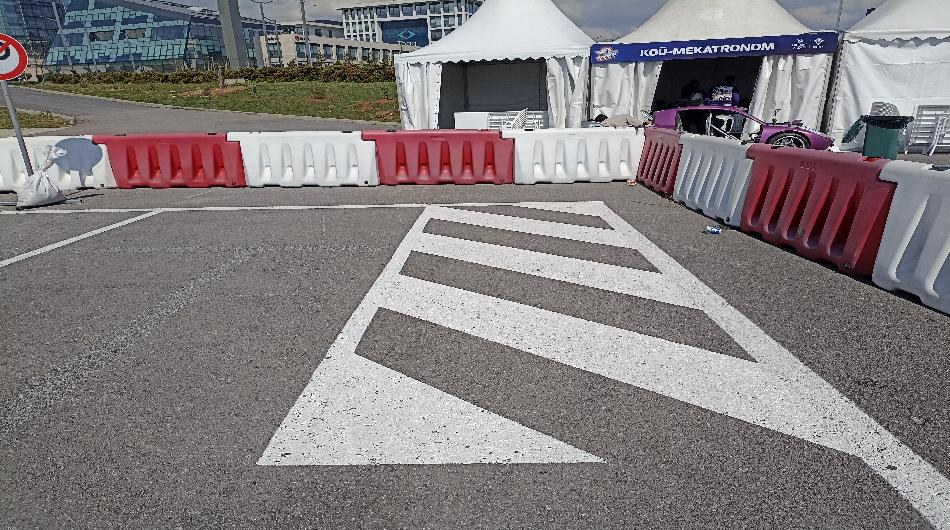park_yapilmaz_yerde: (272, 191, 860, 457)
